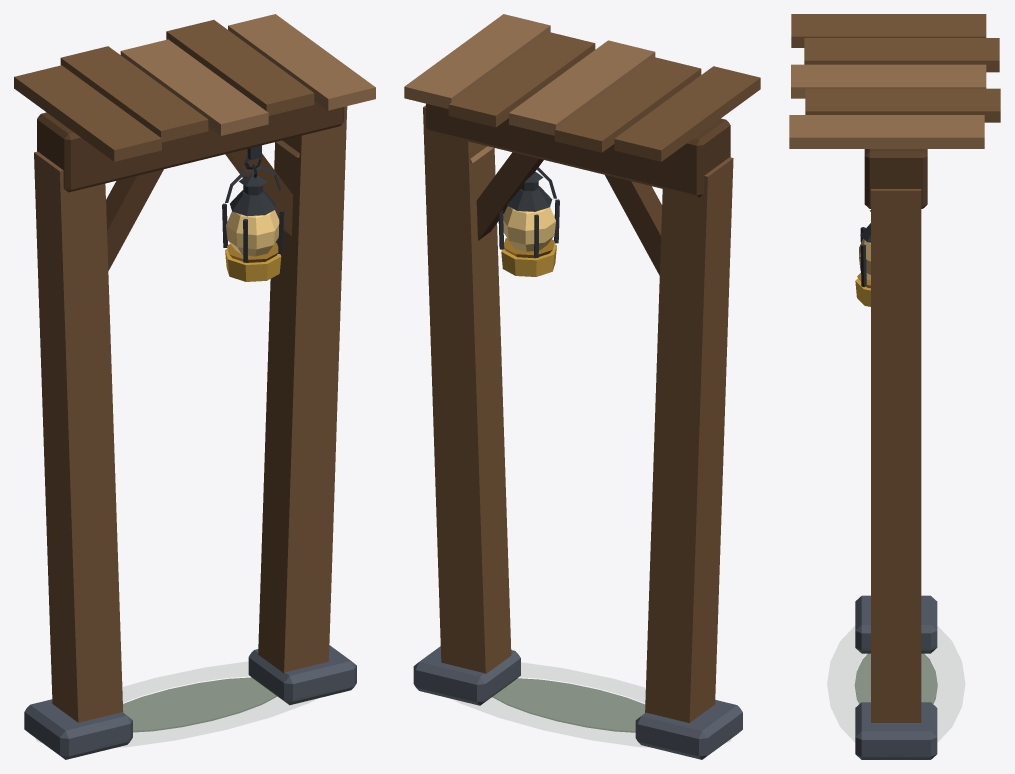
Rendered from oil_lantern.glb.
3 views of the same model, side by side, from view 1: azimuth 30°, elevation 25°; view 2: azimuth 150°, elevation 25°; view 3: azimuth 270°, elevation 25° (orthographic). The views are drawn at different scales.
Visible parts, largest first — view 1: oil_lantern; view 2: oil_lantern; view 3: oil_lantern.
Boxes of the visible parts, x1=… form: oil_lantern: x1=14, y1=14, x2=375, y2=759; oil_lantern: x1=404, y1=14, x2=760, y2=759; oil_lantern: x1=789, y1=14, x2=1000, y2=759.
Bounding box in the file's own units: 1.1 × 2.16 × 0.6713.
